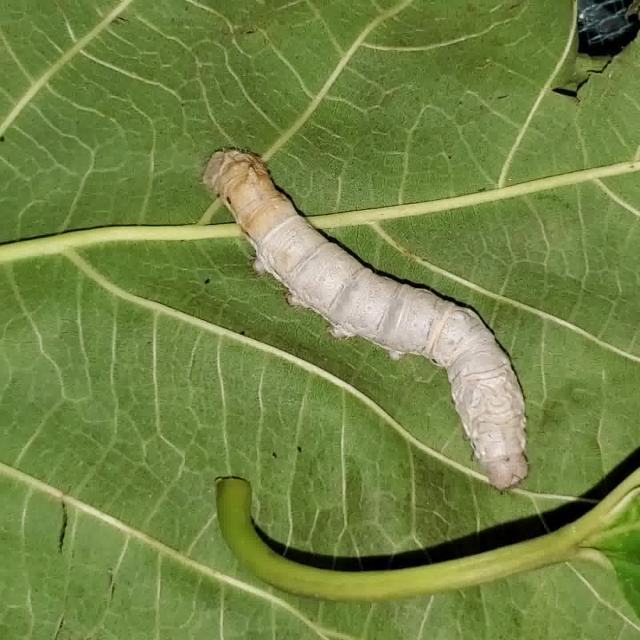Grasserie: (196, 126, 544, 488)
